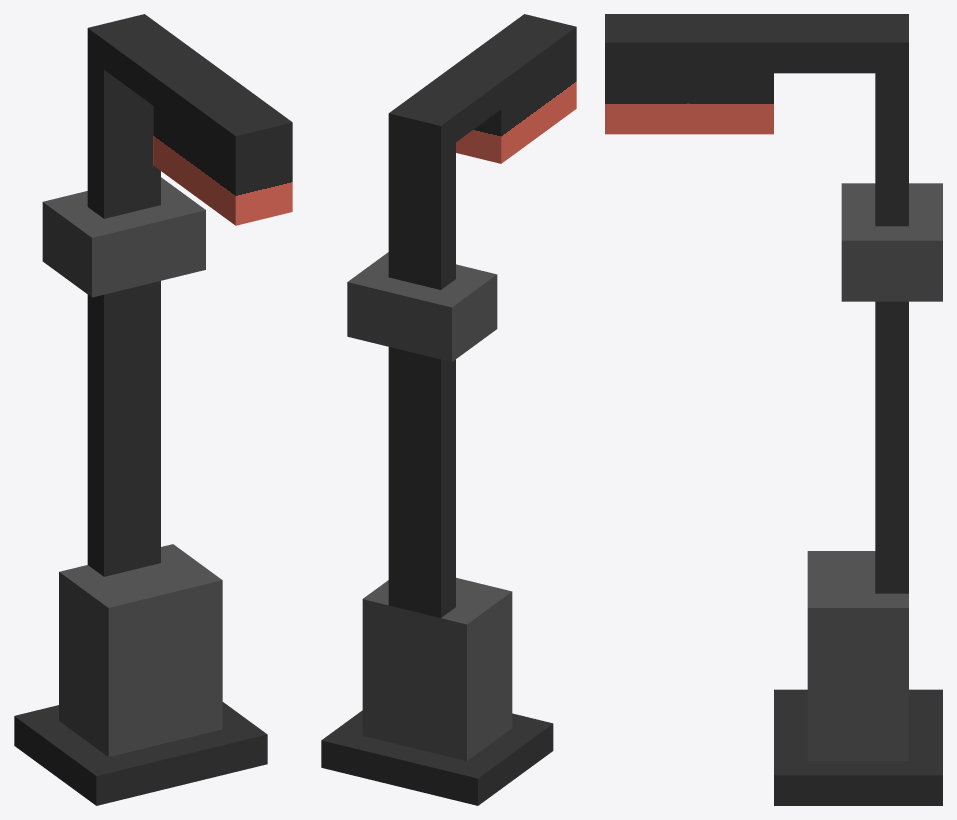
Rendered from lamp.dae.
The picture shows the model from 3 angles, left to right: view 1: azimuth 30°, elevation 25°; view 2: azimuth 150°, elevation 25°; view 3: azimuth 270°, elevation 25°; orthographic projection. The views are drawn at different scales.
Visible parts, largest first — view 1: pizza_men_32; view 2: pizza_men_32; view 3: pizza_men_32.
Boxes of the visible parts, x1,y1,x2,y2 form: pizza_men_32: [14, 14, 292, 805]; pizza_men_32: [321, 14, 576, 805]; pizza_men_32: [605, 14, 942, 805].
Size of the model in its own units: 6 by 24 by 10.
1 material, 1 textured.
